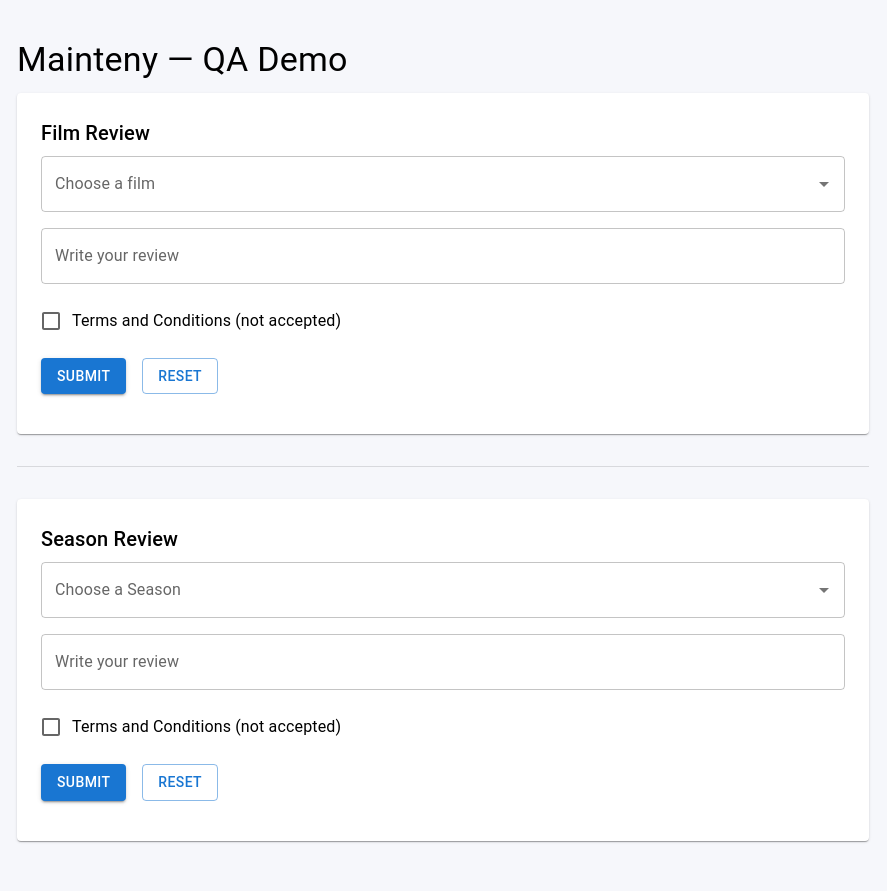
Test: App Component › Independent Section Behavior › validates sections independently
// Make section 1 valid
Click the button titled "Open" in the row of "Choose a film".
click(824, 184)  # box [810,170,838,198]
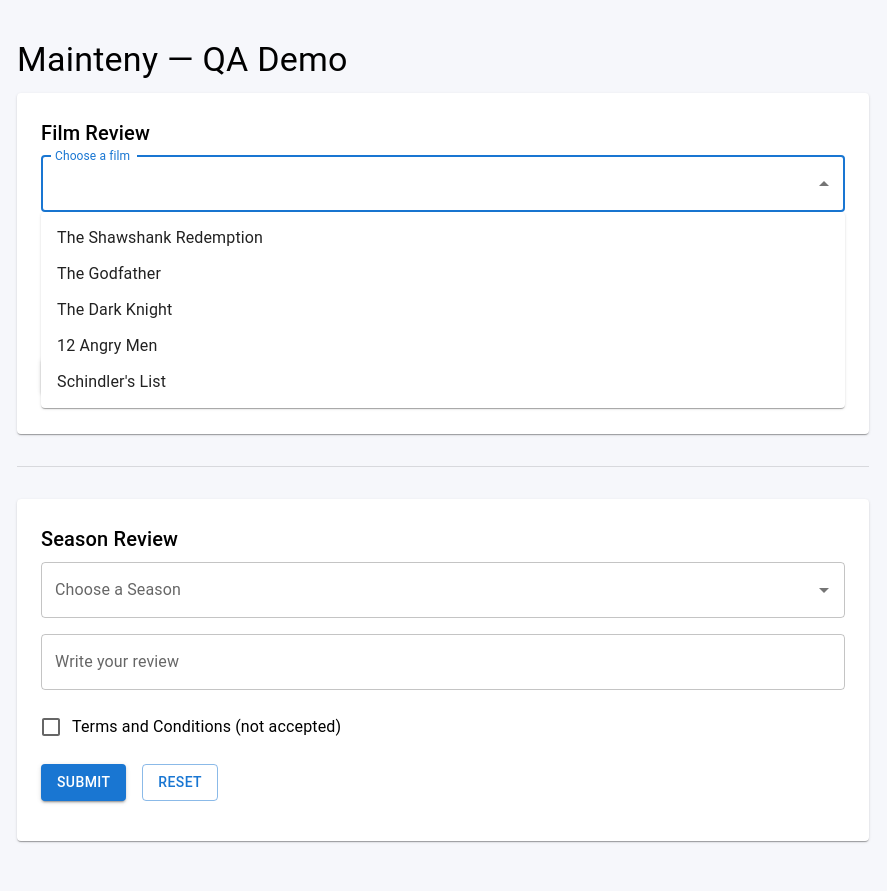
Result: the option "The Godfather" is shown
Click the option "The Godfather".
click(109, 274)  # box [57,264,161,283]
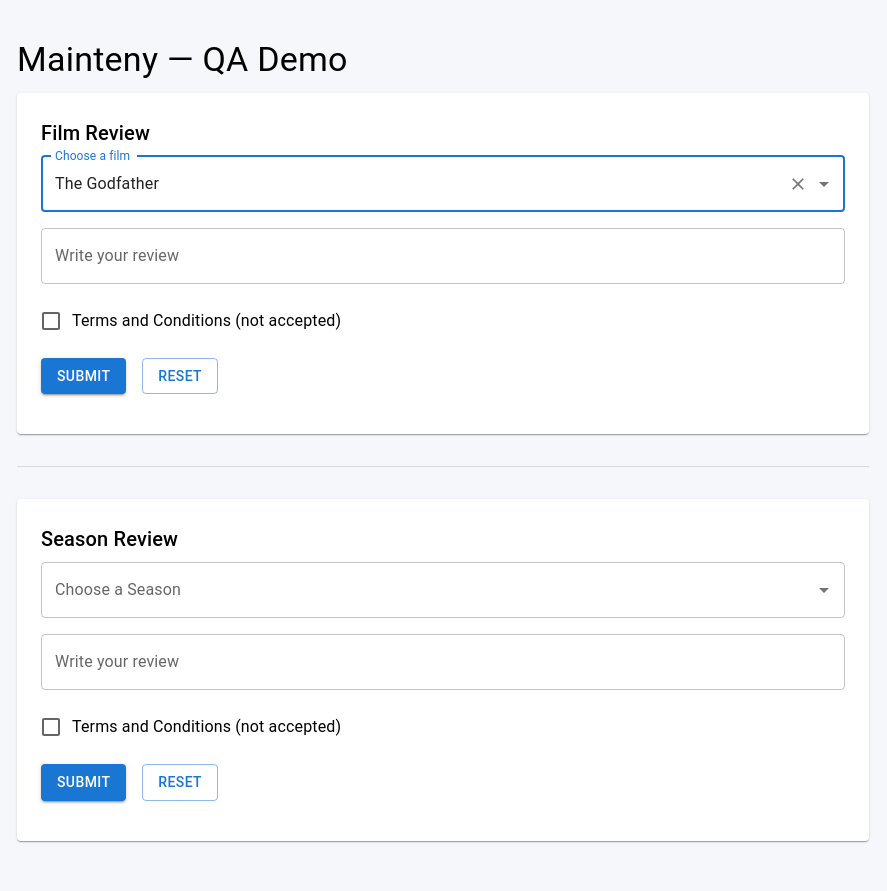
Type "Valid text" into the field labelled "Write your review" below "Choose a film".
click(443, 256); type("Valid text")  # box [41,228,845,284]
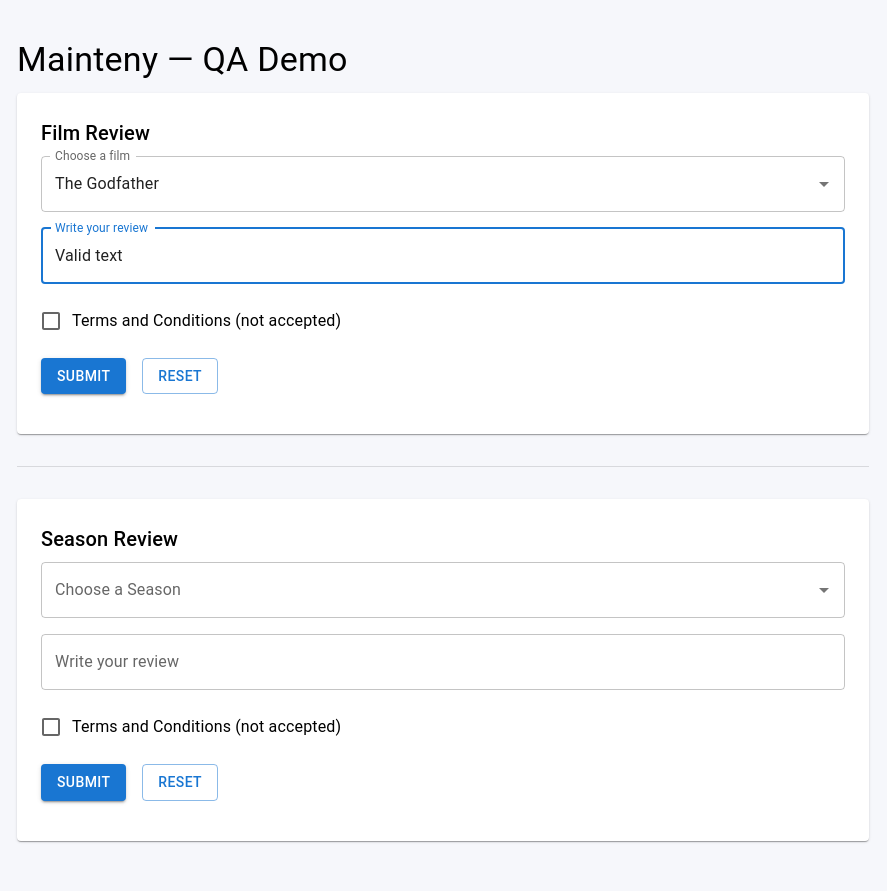
Click the checkbox labelled "Terms and Conditions (not accepted)" below "Choose a film".
click(190, 321)  # box [39,309,341,333]
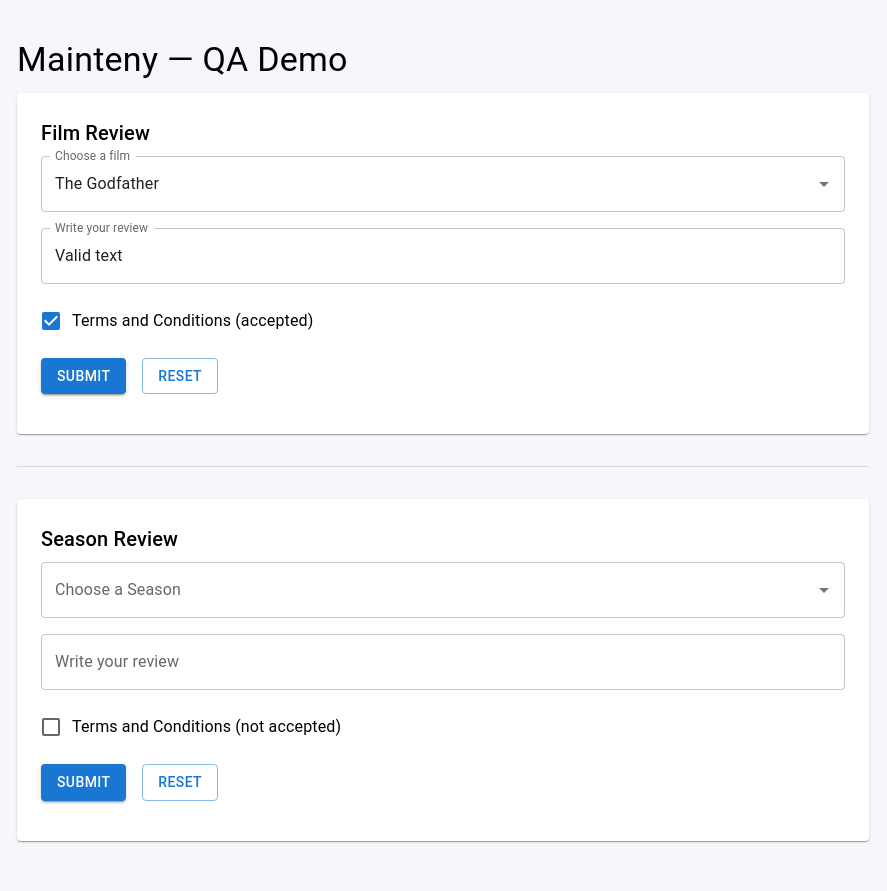
// Leave section 2 invalid and validate both
Click the button with test id "s1-validate-btn".
click(84, 376)  # box [41,358,126,394]
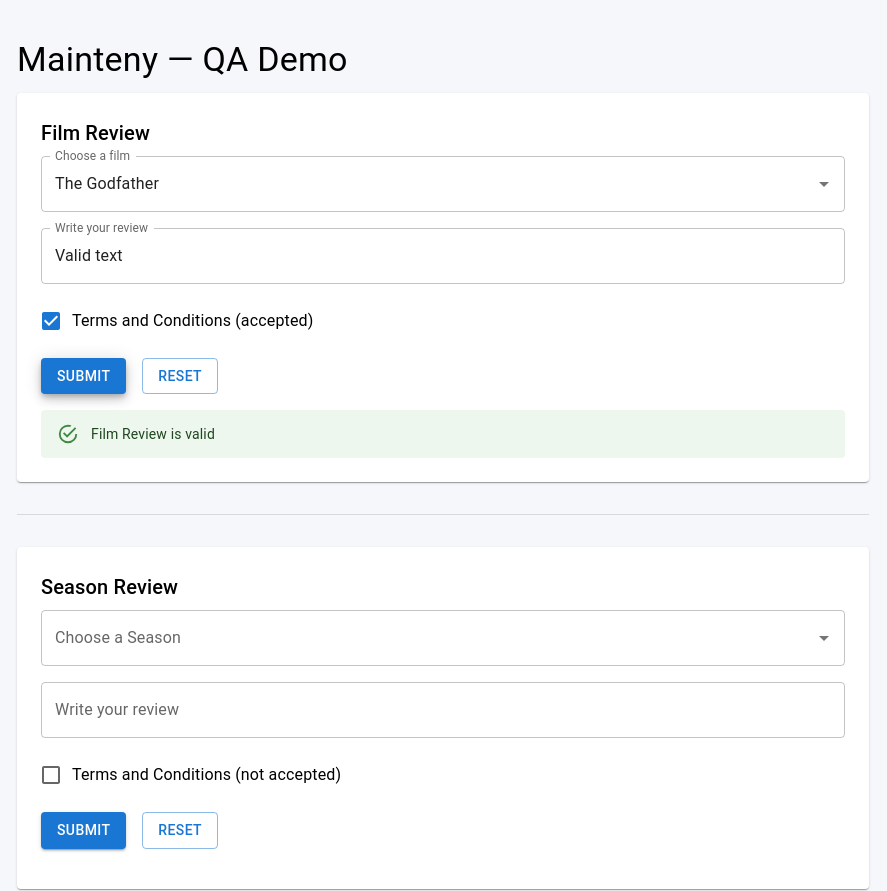
Click the button with test id "s2-validate-btn".
click(84, 831)  # box [41,812,126,849]
(page scrolled)
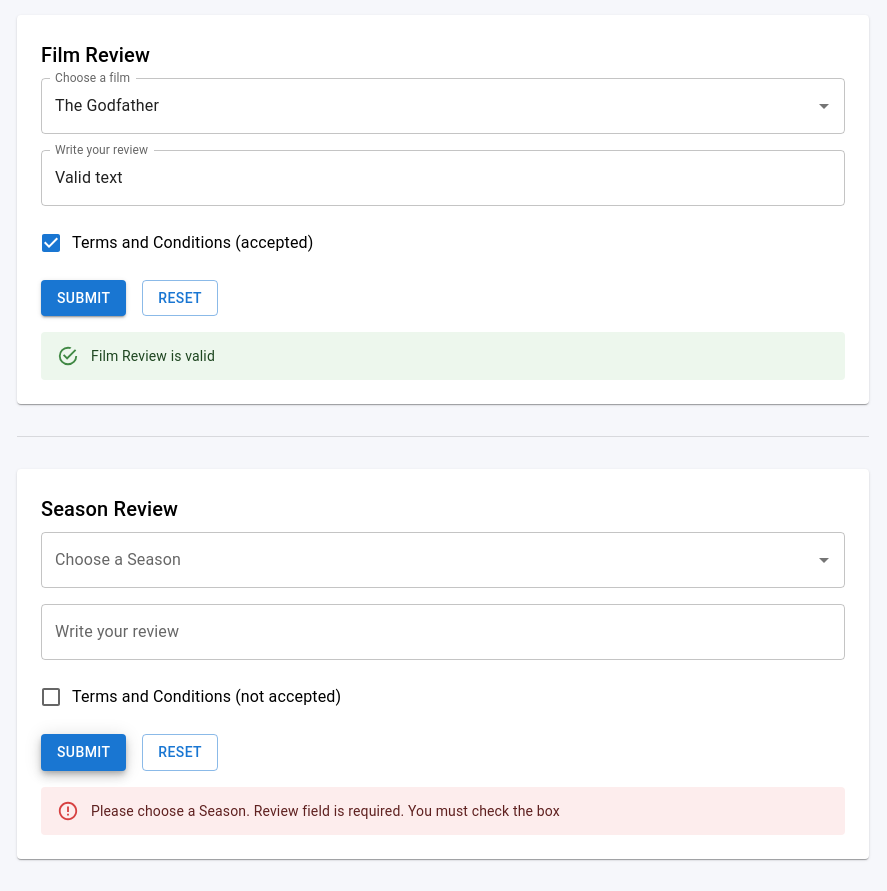
Result: the message "Film Review is valid" is shown at [41,332,845,380]
Result: the message "Please choose a Season. Review field is required. You must check the box" is shown at [41,787,845,835]
